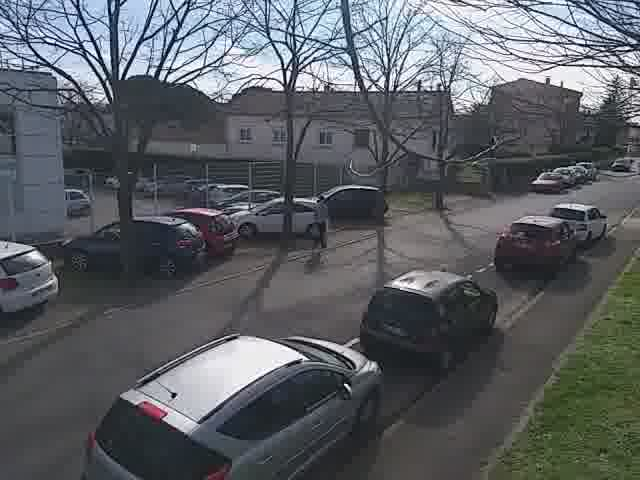persona: (304, 190, 337, 257)
